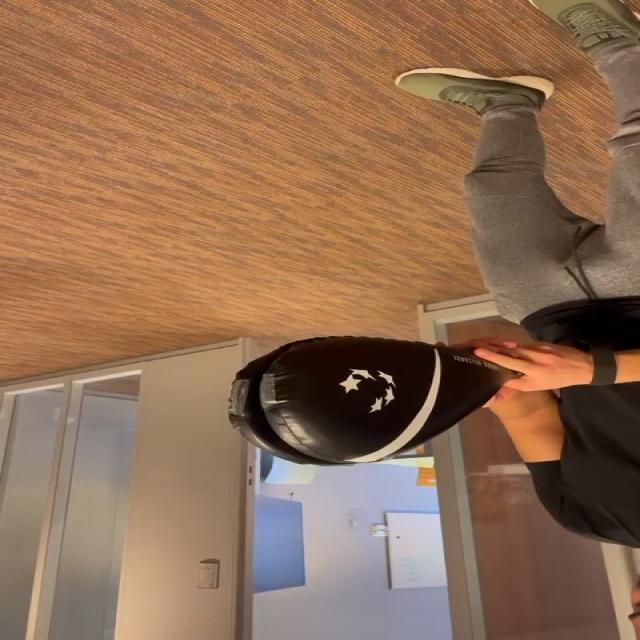paddle: (223, 336, 463, 466)
